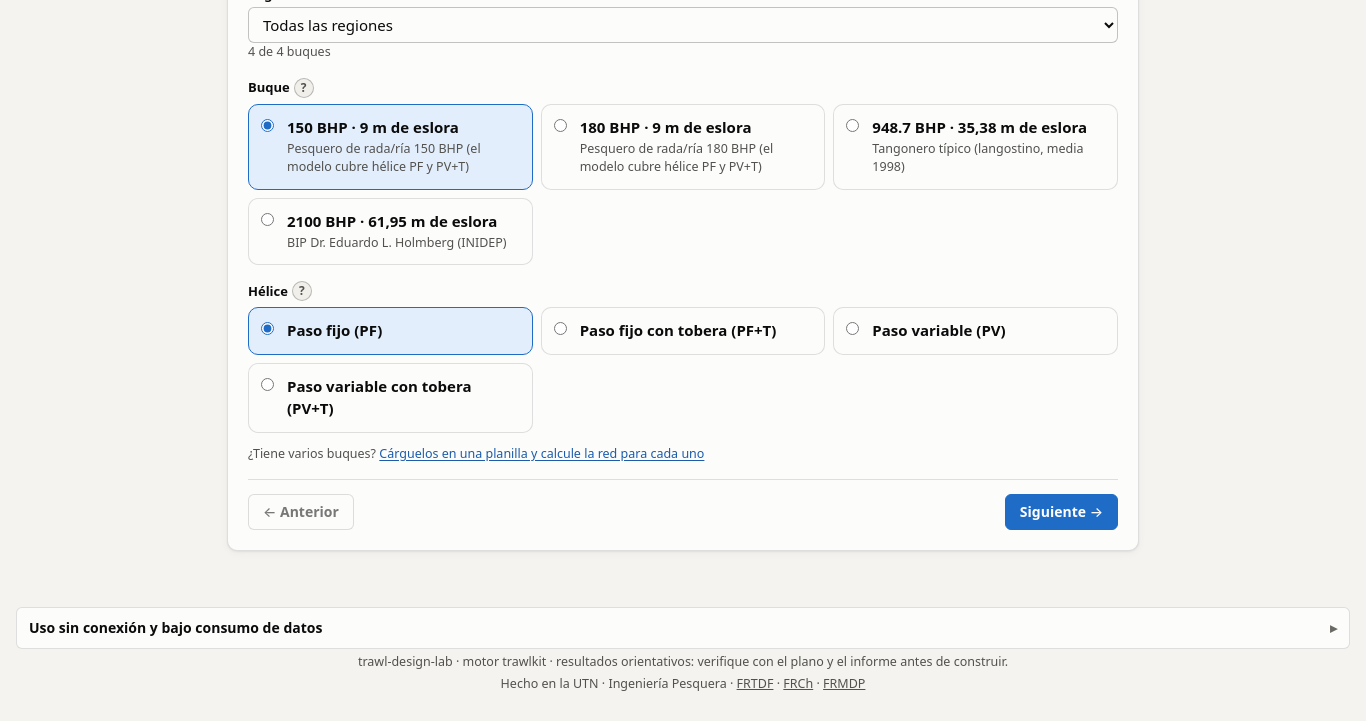
mallas y selectividad › el modo guiado abre la vista de selectividad
(page scrolled)
Expected: the radio button labelled "150 BHP" is shown, [261,119,274,132]
Click the button "Siguiente →" at {"x": 1061, "y": 512}, box [1005,494,1118,530]
(page scrolled)
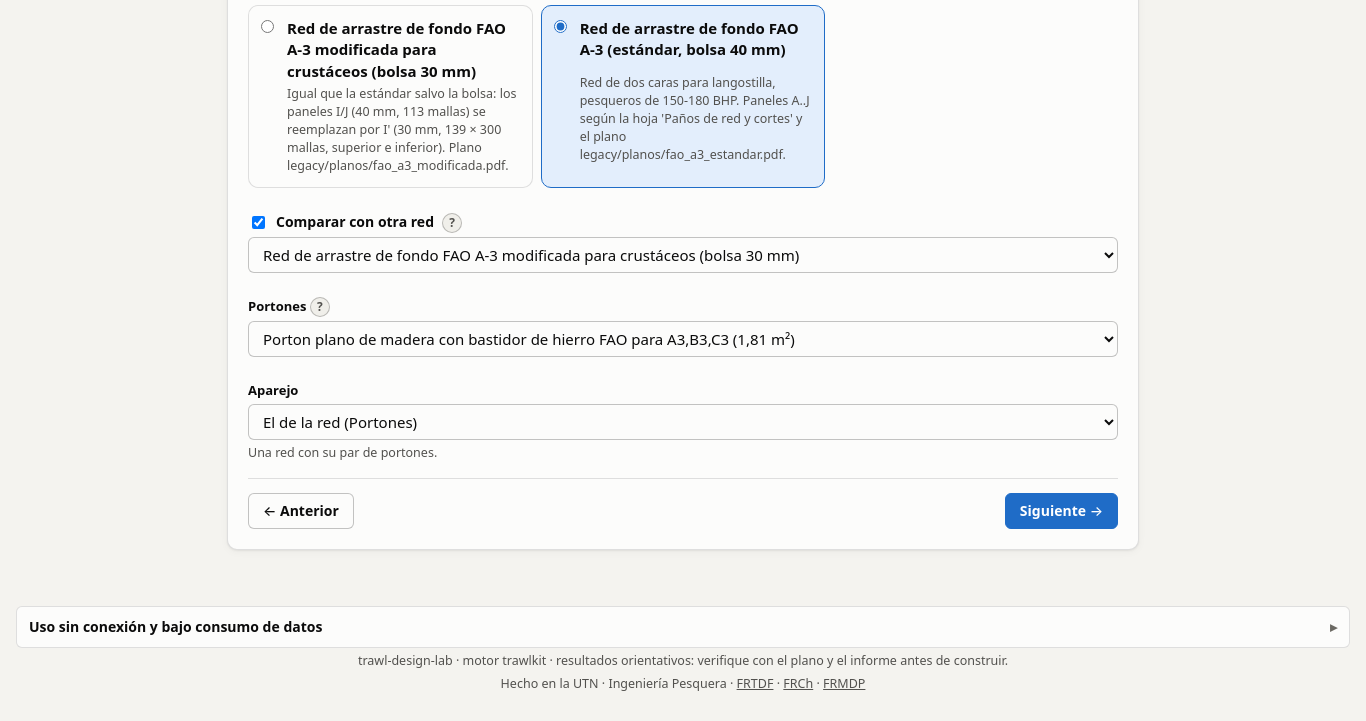
Click the button "Siguiente →" at {"x": 1061, "y": 511}, box [1005,493,1118,529]
(page scrolled)
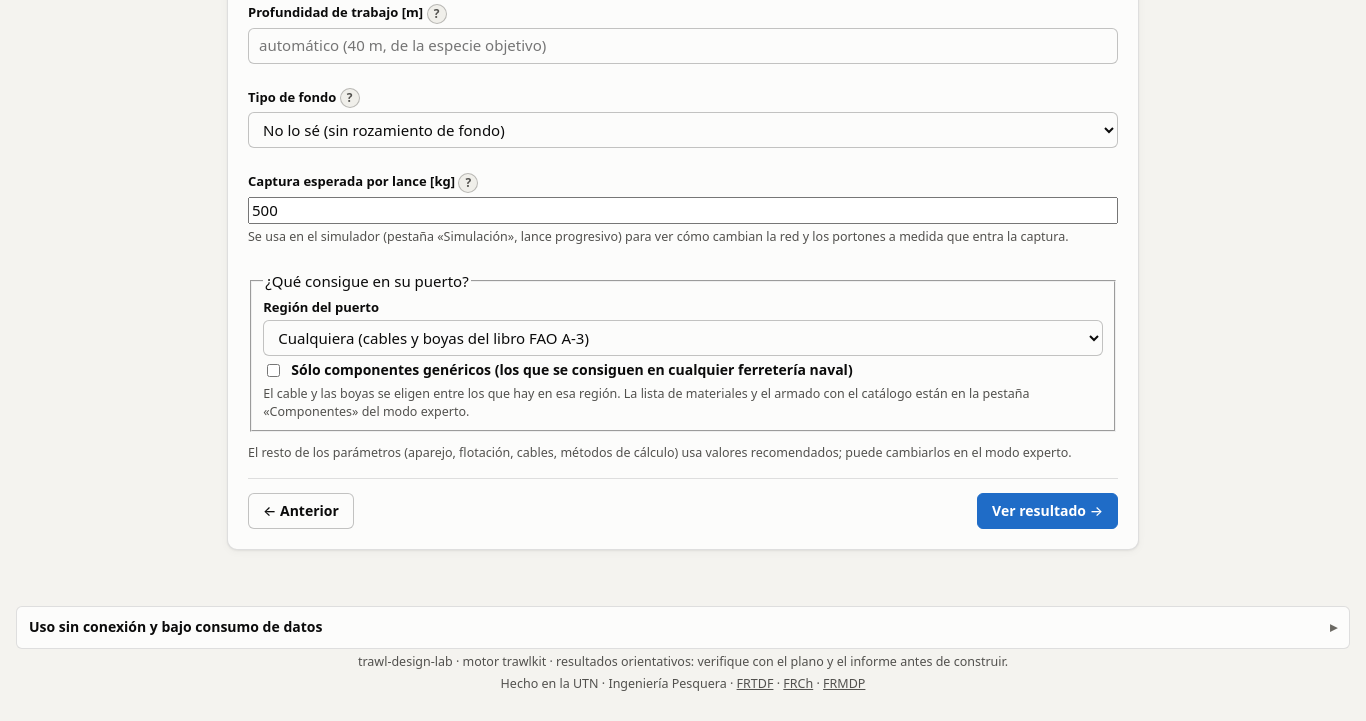
Click the button "Ver resultado →" at {"x": 1048, "y": 512}, box [977,494,1118,530]
(page scrolled)
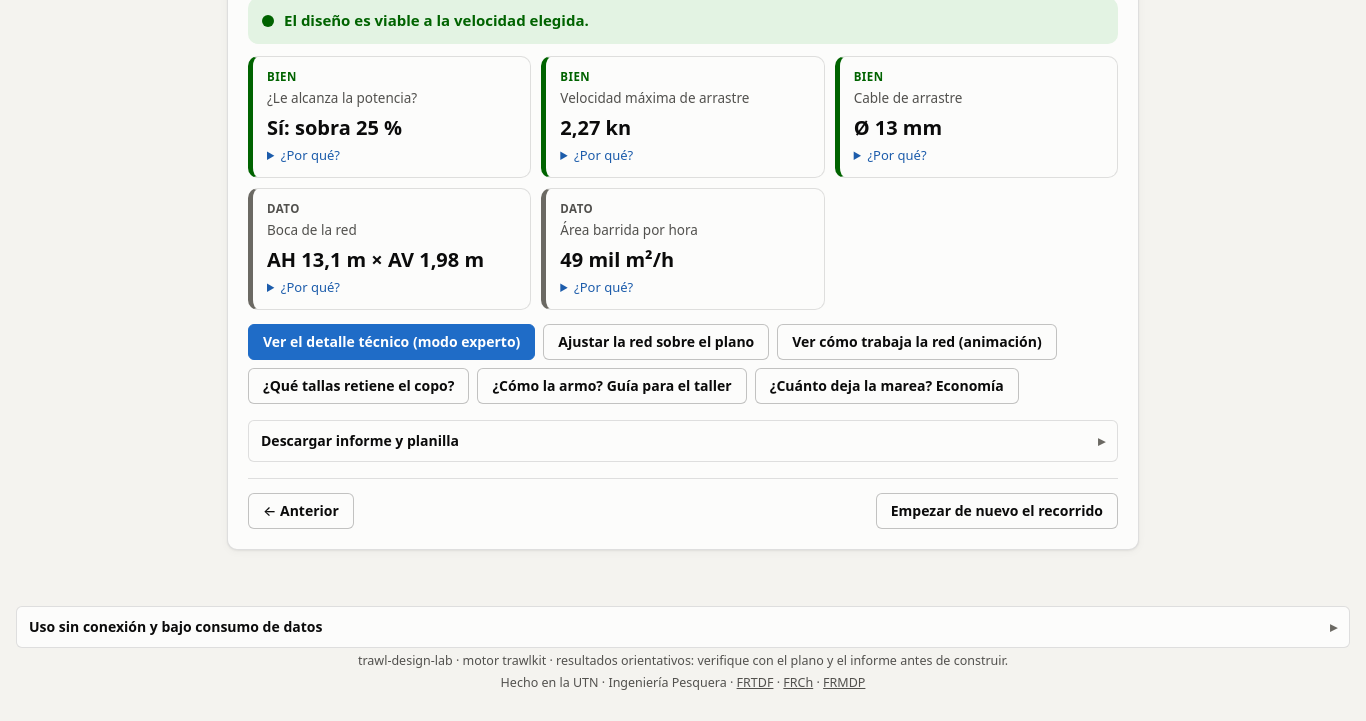
Click the button "¿Qué tallas retiene el copo?" at {"x": 359, "y": 386}, box [248,368,469,404]
(page scrolled)
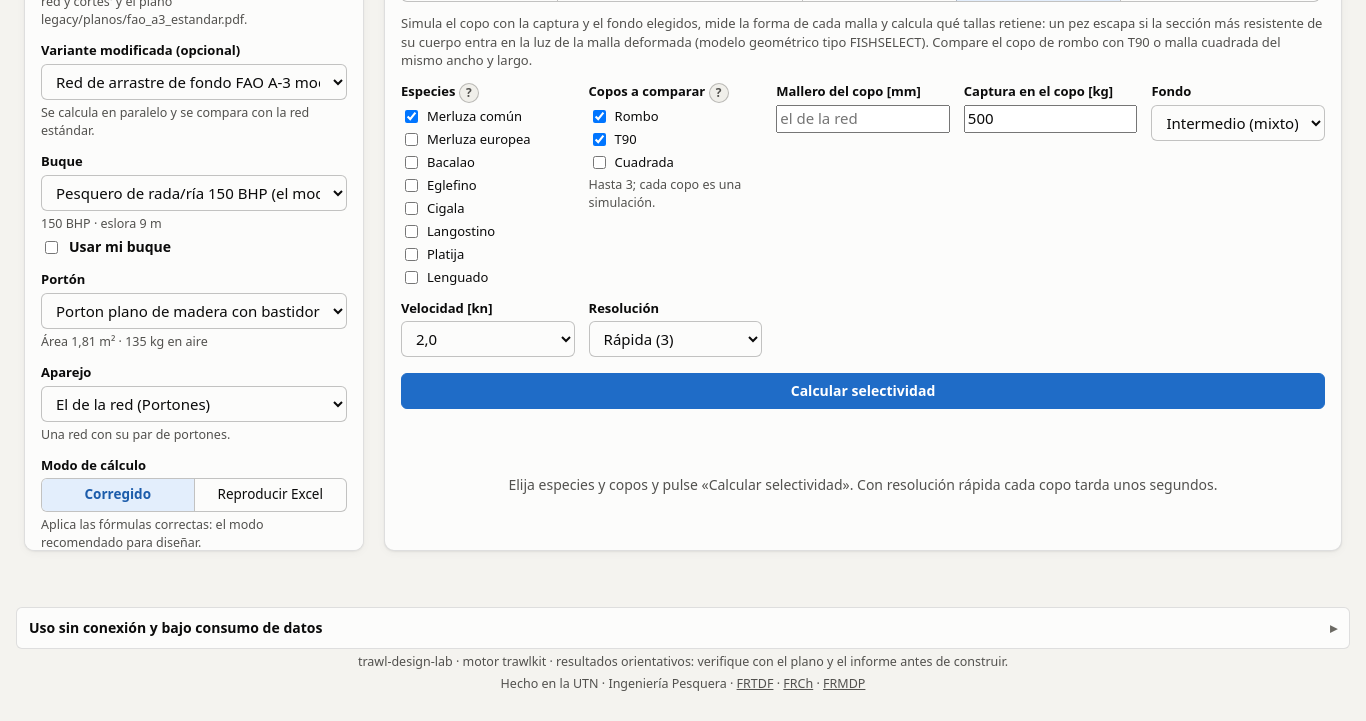
Expected: the number field labelled "Captura en el copo [kg]" holds "500", [964,105,1137,133]
